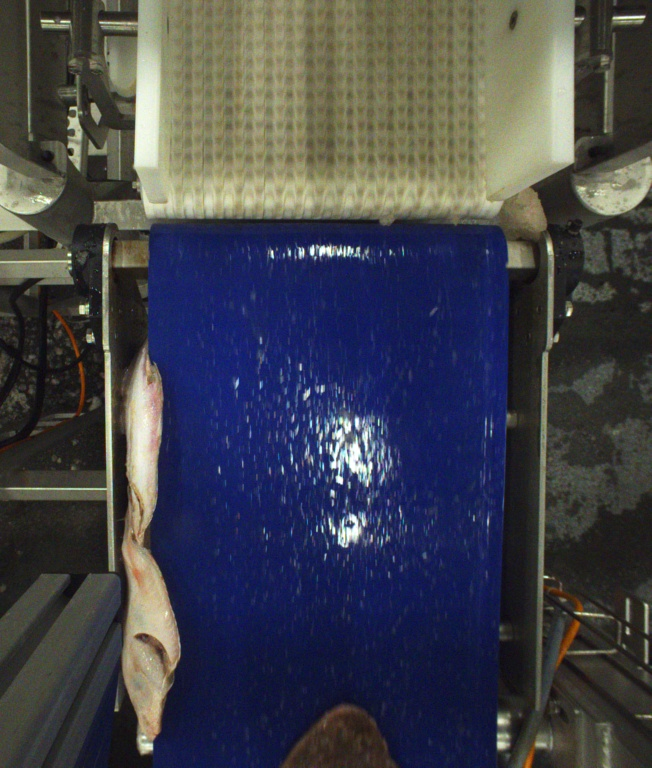SOL: (272, 701, 404, 768)
